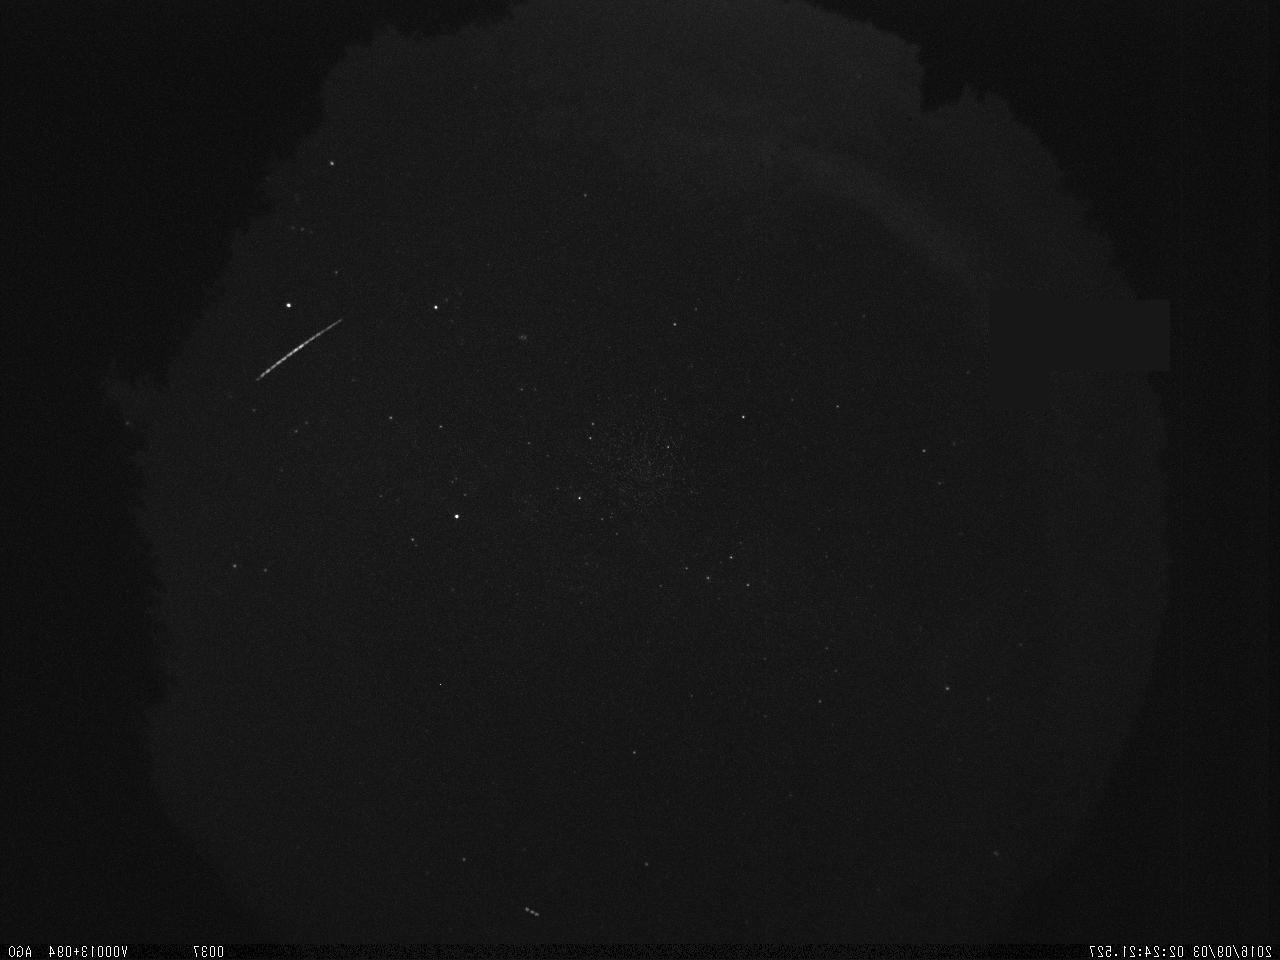meteor: (246, 312, 350, 399)
